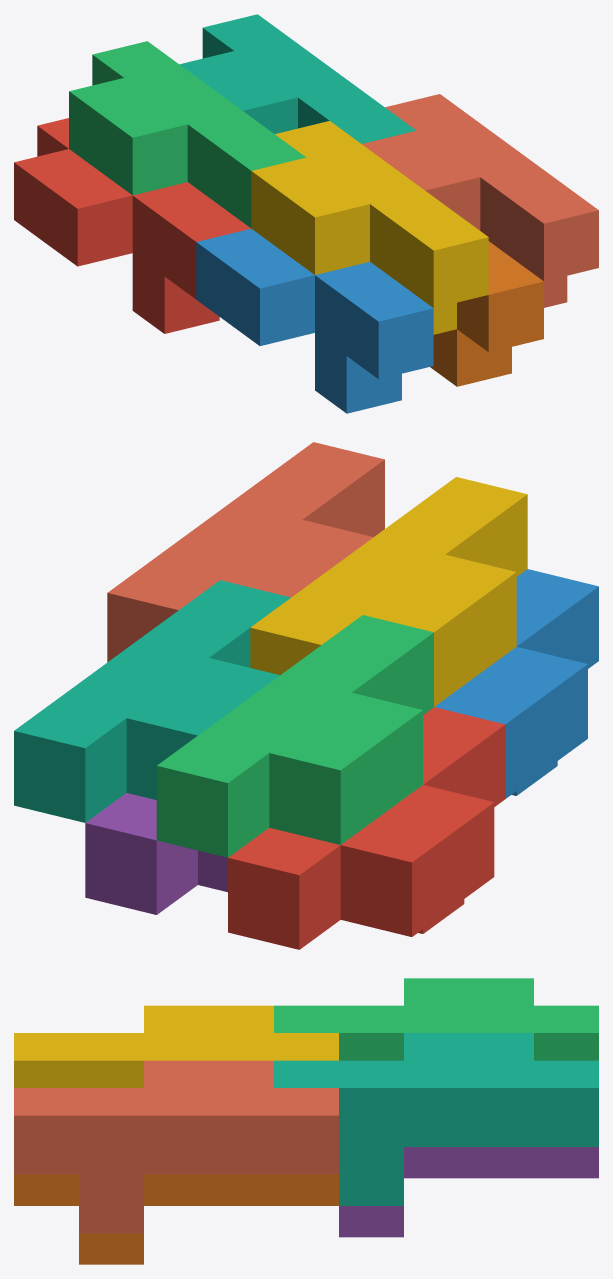
The model's file is tiling.obj.
The picture shows the model from 3 angles, top to bottom: view 1: azimuth 30°, elevation 25°; view 2: azimuth 150°, elevation 25°; view 3: azimuth 270°, elevation 25°; orthographic projection. The views are drawn at different scales.
Parts seen in each view (by area): view 1: copy_1_domain_4, copy_1_domain_2, copy_1_domain_3, copy_1_domain_1, copy_1_domain_8, copy_1_domain_7, copy_1_domain_6; view 2: copy_1_domain_3, copy_1_domain_1, copy_1_domain_7, copy_1_domain_4, copy_1_domain_8, copy_1_domain_2, copy_1_domain_5; view 3: copy_1_domain_8, copy_1_domain_7, copy_1_domain_3, copy_1_domain_4, copy_1_domain_6, copy_1_domain_5.
Part boxes in pixels (<box>): copy_1_domain_4: <box>251,121,488,334</box>; copy_1_domain_2: <box>196,228,433,413</box>; copy_1_domain_3: <box>69,41,305,227</box>; copy_1_domain_1: <box>14,118,250,333</box>; copy_1_domain_8: <box>362,94,598,307</box>; copy_1_domain_7: <box>179,14,415,143</box>; copy_1_domain_6: <box>430,241,543,386</box>; copy_1_domain_3: <box>156,615,433,857</box>; copy_1_domain_1: <box>228,707,505,949</box>; copy_1_domain_7: <box>14,580,290,822</box>; copy_1_domain_4: <box>250,477,527,706</box>; copy_1_domain_8: <box>107,442,384,662</box>; copy_1_domain_2: <box>434,569,598,798</box>; copy_1_domain_5: <box>85,793,227,914</box>; copy_1_domain_8: <box>14,1060,338,1233</box>; copy_1_domain_7: <box>274,1033,598,1205</box>; copy_1_domain_3: <box>274,978,598,1060</box>; copy_1_domain_4: <box>14,1005,338,1087</box>; copy_1_domain_6: <box>14,1174,338,1264</box>; copy_1_domain_5: <box>339,1147,598,1237</box>.
Size of the model in its own units: 6 by 3 by 9.
